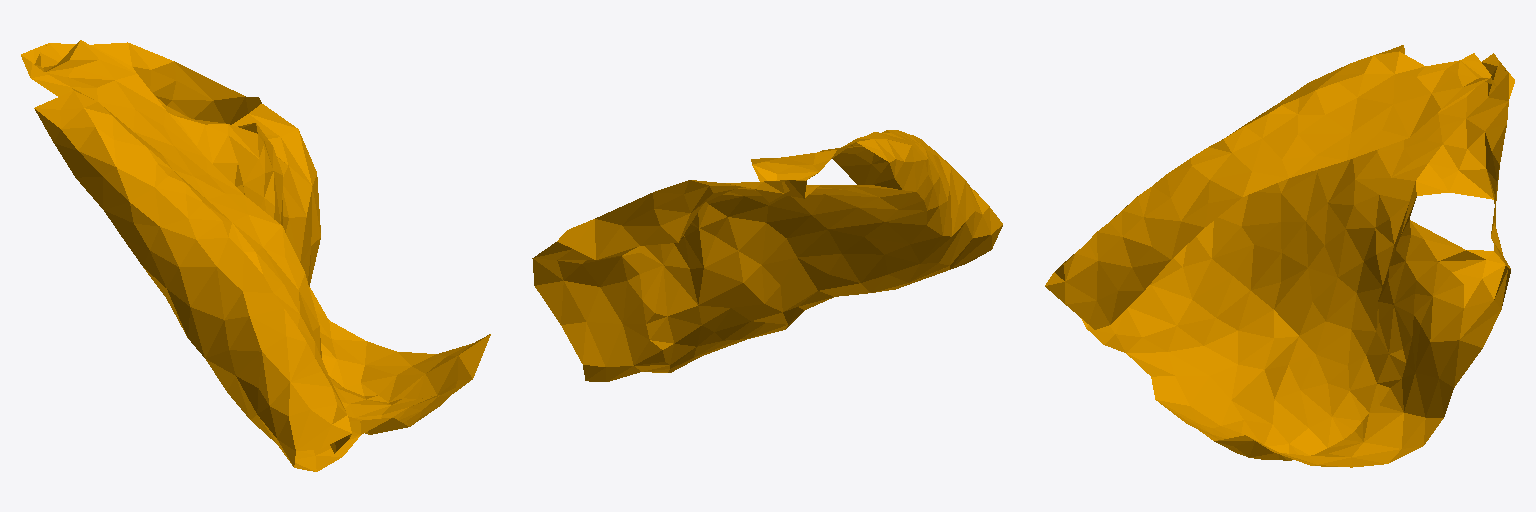
URDF robot description (init):
<?xml version='1.0' encoding='utf-8'?>
<robot name="init">
<link name="link_0"><inertial><mass value="1.0" /><origin rpy="0 0 0" xyz="0.000000 0.000000 0.000000" /><inertia ixx="1.0" ixy="0.0" ixz="0.0" iyy="1.0" iyz="0.0" izz="1.0" /></inertial><visual><origin rpy="0 0 0" xyz="0.000000 0.000000 0.000000" /><geometry><mesh filename="./clothHuman/cloth/1343.obj" /></geometry></visual><collision><origin rpy="0 0 0" xyz="0.000000 0.000000 0.000000" /><geometry><mesh filename="./clothHuman/cloth/1343.obj" /></geometry></collision></link></robot>

--- Facts derived from the render (not from the file) ---
3 views of the same robot in one strip: view 1: azimuth 30°, elevation 25°; view 2: azimuth 150°, elevation 25°; view 3: azimuth 270°, elevation 25° (orthographic).
Robot: init — 1 links, 0 joints (none); root link link_0; default pose: all joints at 0.
Links seen in each view (by area): view 1: link_0; view 2: link_0; view 3: link_0.
Link boxes in pixels (x1=…): link_0: x1=21, y1=40, x2=490, y2=471; link_0: x1=532, y1=130, x2=1002, y2=381; link_0: x1=1045, y1=45, x2=1514, y2=467.
Size in the robot's own frame: 3 by 3.66 by 2.55 metres.
1 mesh visuals loaded from 1 distinct referenced files (1 OBJ).